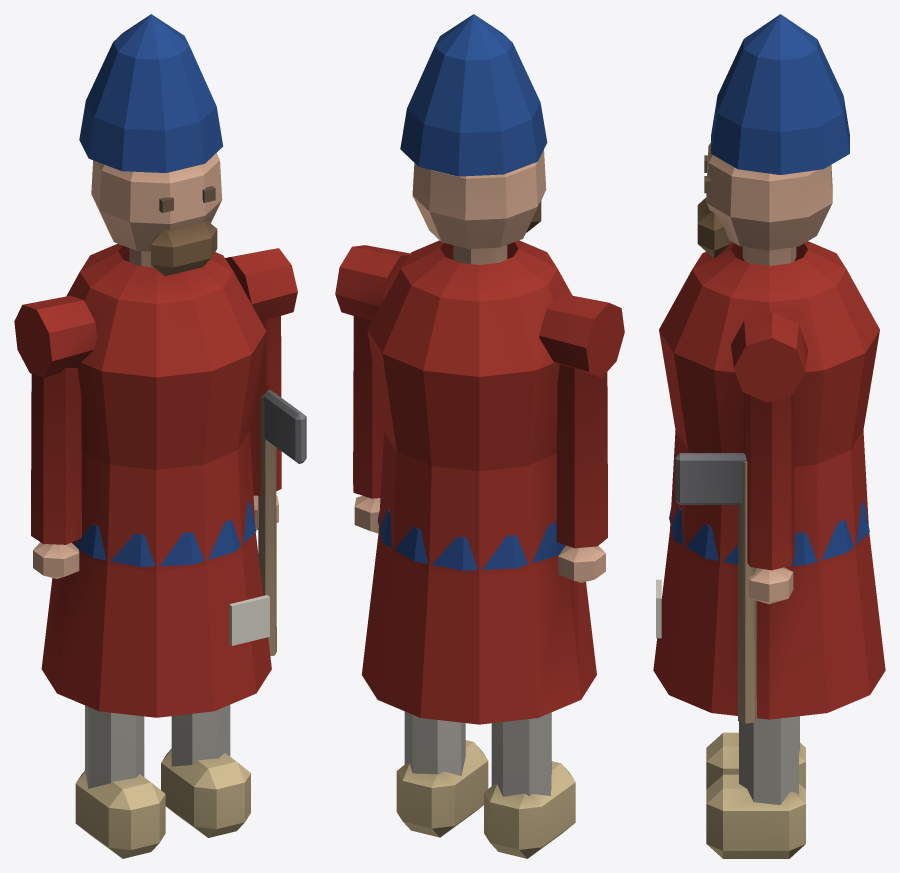
File: unit_kholop.glb
3 renders of one model, left to right at view 1: azimuth 30°, elevation 25°; view 2: azimuth 150°, elevation 25°; view 3: azimuth 270°, elevation 25°, orthographic. The views are drawn at different scales.
Visible parts, largest first — view 1: unit_kholop; view 2: unit_kholop; view 3: unit_kholop.
Part boxes in pixels (x1,y1,x2,y2): unit_kholop: [14, 14, 306, 858]; unit_kholop: [335, 14, 624, 858]; unit_kholop: [653, 14, 885, 858].
Size of the model in its own units: 0.26 by 0.815 by 0.21.
